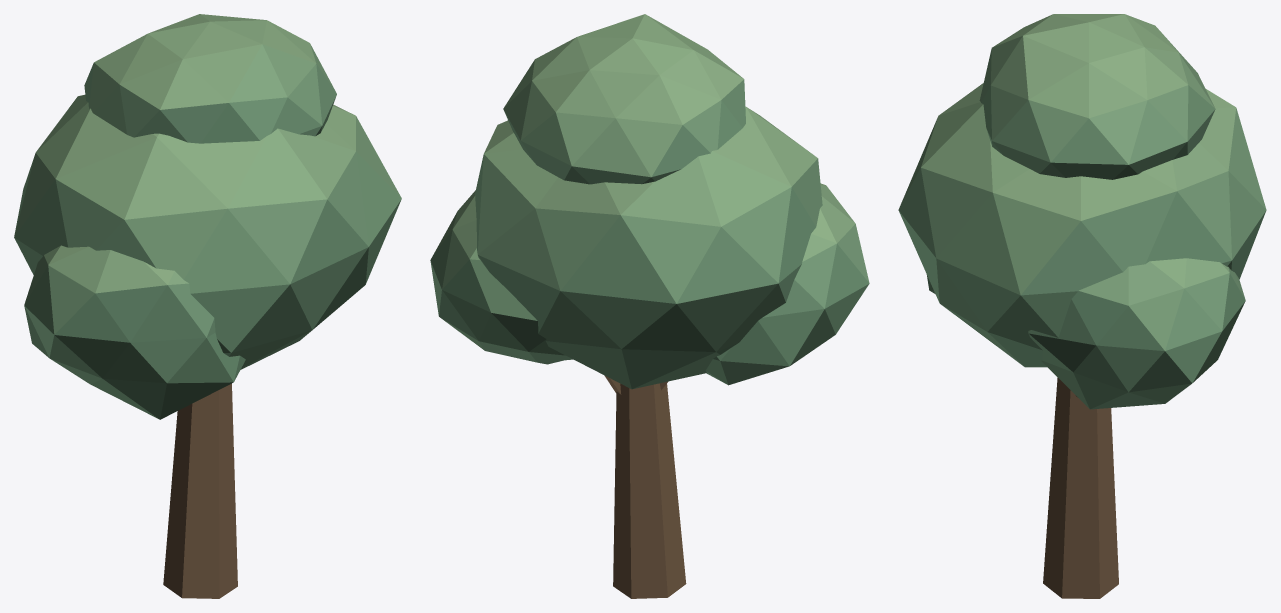
File: tree_round.glb
3 renders of one model, left to right at view 1: azimuth 30°, elevation 25°; view 2: azimuth 150°, elevation 25°; view 3: azimuth 270°, elevation 25°, orthographic. The views are drawn at different scales.
Parts seen in each view (by area): view 1: tree_round; view 2: tree_round; view 3: tree_round.
Boxes of the visible parts, box(x1,y1,x2,y2) form: tree_round: box(14, 14, 401, 598); tree_round: box(430, 14, 869, 598); tree_round: box(898, 14, 1266, 598).
Bounding box in the file's own units: 2.73 × 3.96 × 2.32.
